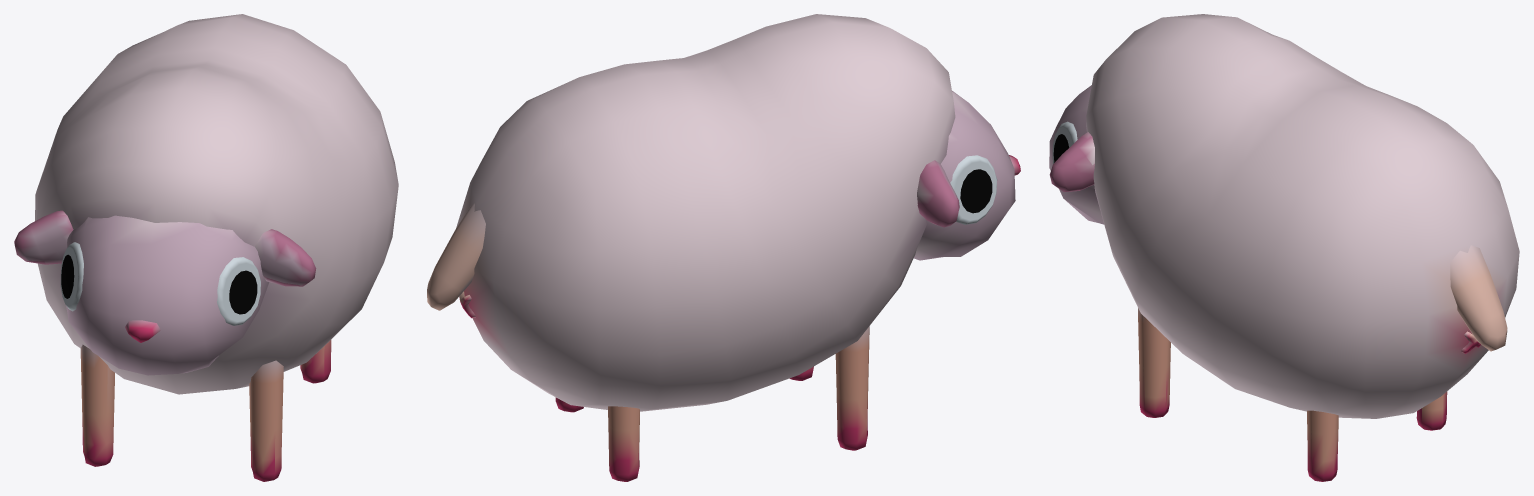
Rendered from Sheep.glb.
3 views of the same model, side by side, from view 1: azimuth 30°, elevation 25°; view 2: azimuth 150°, elevation 25°; view 3: azimuth 270°, elevation 25° (orthographic). The views are drawn at different scales.
Visible parts, largest first — view 1: 150; view 2: 150; view 3: 150.
Boxes of the visible parts, x1,y1,x2,y2 form: 150: (14,14,398,481); 150: (427,14,1020,481); 150: (1049,14,1519,481).
Size of the model in its own units: 0.8969 by 0.7956 by 0.9181.
